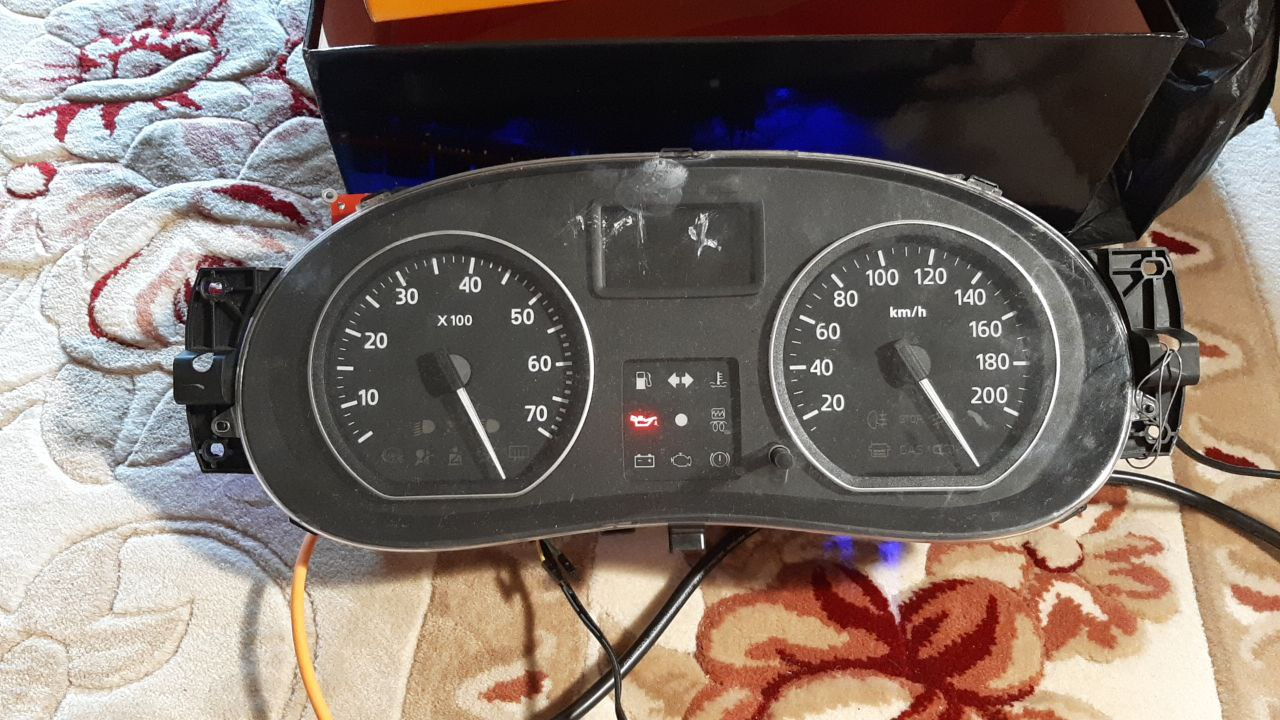oil: (623, 411, 659, 429)
